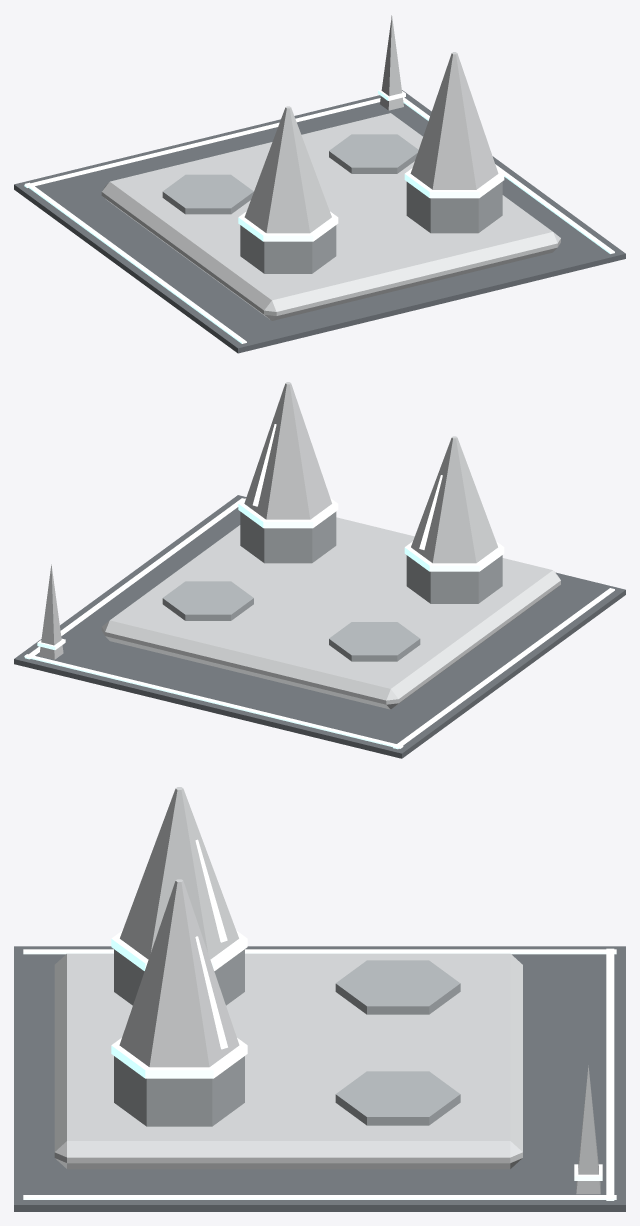
File: zone_low_4_t1.glb
3 views of the same model, one above another, from view 1: azimuth 30°, elevation 25°; view 2: azimuth 150°, elevation 25°; view 3: azimuth 270°, elevation 25° (orthographic). The views are drawn at different scales.
Parts seen in each view (by area): view 1: zone_low_4_t1, detail; view 2: zone_low_4_t1, detail; view 3: zone_low_4_t1, detail.
Boxes of the visible parts, x1,y1,x2,y2 form: zone_low_4_t1: (14, 52, 625, 353); detail: (24, 15, 614, 343); zone_low_4_t1: (14, 382, 625, 758); detail: (24, 498, 614, 749); zone_low_4_t1: (14, 787, 625, 1211); detail: (23, 948, 616, 1200).
Bounding box in the file's own units: 19.6 × 9.09 × 19.6.
